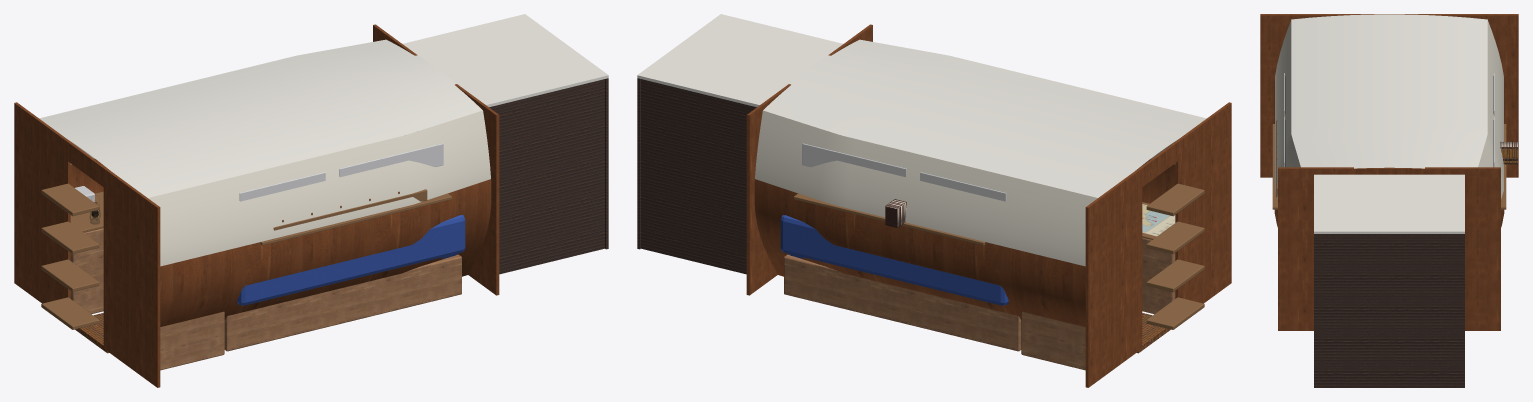
The model's file is cabine.glb.
3 views of the same model, side by side, from view 1: azimuth 30°, elevation 25°; view 2: azimuth 150°, elevation 25°; view 3: azimuth 270°, elevation 25° (orthographic). The views are drawn at different scales.
Visible parts, largest first — view 1: FlancTribord, Plafond, FlancPointe.001, CloisonArD, PlafondPointe, Couchette.001, CloisonArG, Dossier.001, CloisonD, TableCartes, Cuisine, CadreFenetre.003 (+12 smaller); view 2: FlancBabord, Plafond, FlancPointe, CloisonArG, PlafondPointe, Couchette, CloisonArD, Dossier, CloisonG, Cuisine, TableCartes, CadreFenetre.001 (+11 smaller); view 3: Plafond, FondPointe, PlafondPointe, CloisonD, CloisonG, CloisonArD, CloisonArG, FlancTribord, FlancBabord, Linteau, Etagere.001, Etagere.
Part boxes in pixels (x1,y1,x2,y2): FlancTribord: (148, 110, 491, 326); Plafond: (39, 39, 482, 197); FlancPointe.001: (489, 79, 604, 274); CloisonArD: (103, 168, 160, 387); PlafondPointe: (403, 14, 608, 107); Couchette.001: (224, 254, 461, 351); CloisonArG: (14, 102, 70, 303); Dossier.001: (237, 215, 465, 305); CloisonD: (455, 84, 499, 295); TableCartes: (160, 311, 224, 370); Cuisine: (70, 228, 103, 314); CadreFenetre.003: (339, 143, 443, 177); FlancBabord: (754, 110, 1097, 326); Plafond: (763, 39, 1206, 197); FlancPointe: (641, 79, 756, 274); CloisonArG: (1085, 168, 1142, 387); PlafondPointe: (637, 14, 842, 107); Couchette: (784, 254, 1021, 351); CloisonArD: (1175, 102, 1231, 303); Dossier: (780, 215, 1008, 305); CloisonG: (746, 84, 790, 295); Cuisine: (1021, 311, 1085, 370); TableCartes: (1142, 237, 1175, 314); CadreFenetre.001: (802, 143, 906, 177); Plafond: (1291, 14, 1487, 168); FondPointe: (1314, 234, 1464, 387); PlafondPointe: (1314, 174, 1464, 233); CloisonD: (1278, 167, 1358, 330); CloisonG: (1420, 167, 1500, 330); CloisonArD: (1260, 14, 1357, 177); CloisonArG: (1422, 14, 1518, 177); FlancTribord: (1274, 20, 1300, 227); FlancBabord: (1478, 20, 1504, 227); Linteau: (1358, 167, 1420, 174); Etagere.001: (1272, 124, 1277, 209); Etagere: (1501, 124, 1506, 209).
Bounding box in the file's own units: 5.63 × 1.96 × 2.74.
Materials: 54 (26 with a texture image).
